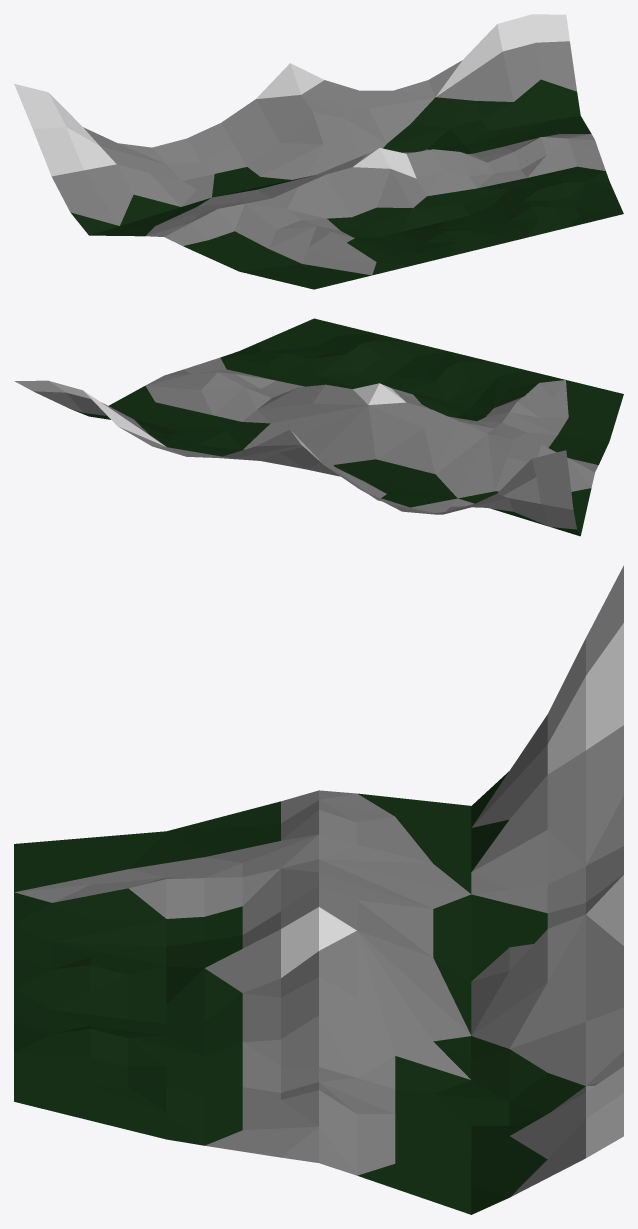
File: landscape mountain 1.FBX
3 renders of one model, top to bottom at view 1: azimuth 30°, elevation 25°; view 2: azimuth 150°, elevation 25°; view 3: azimuth 270°, elevation 25°, orthographic. The views are drawn at different scales.
Visible parts, largest first — view 1: Mountains; view 2: Mountains; view 3: Mountains.
Boxes of the visible parts, box(x1,y1,x2,y2) form: Mountains: box(14, 14, 623, 289); Mountains: box(14, 318, 623, 536); Mountains: box(14, 565, 623, 1214).
Size of the model in its own units: 70.18 by 15.36 by 39.37.
